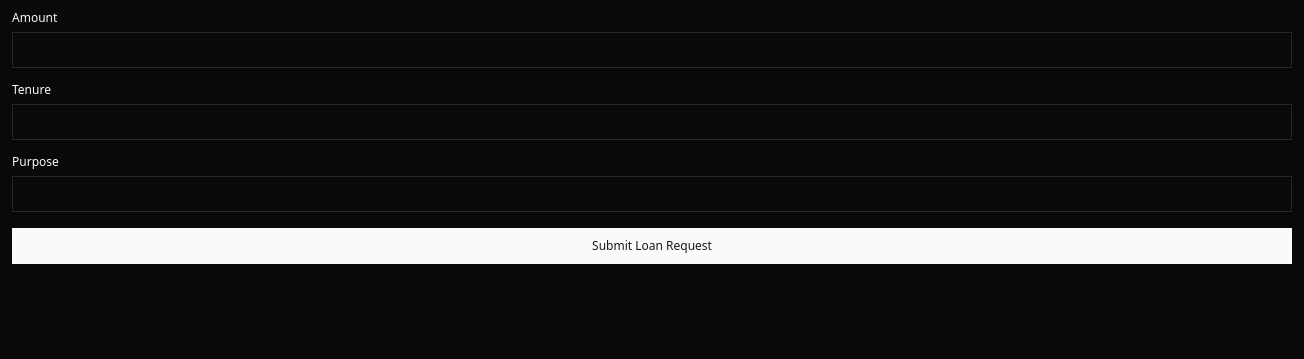
LoanForm › displays validation errors when form is submitted empty
What coordinates should you click on to do the following:
click the button "Submit Loan Request"
I would click on:
 (652, 246)
Its box is [12,228,1292,264].
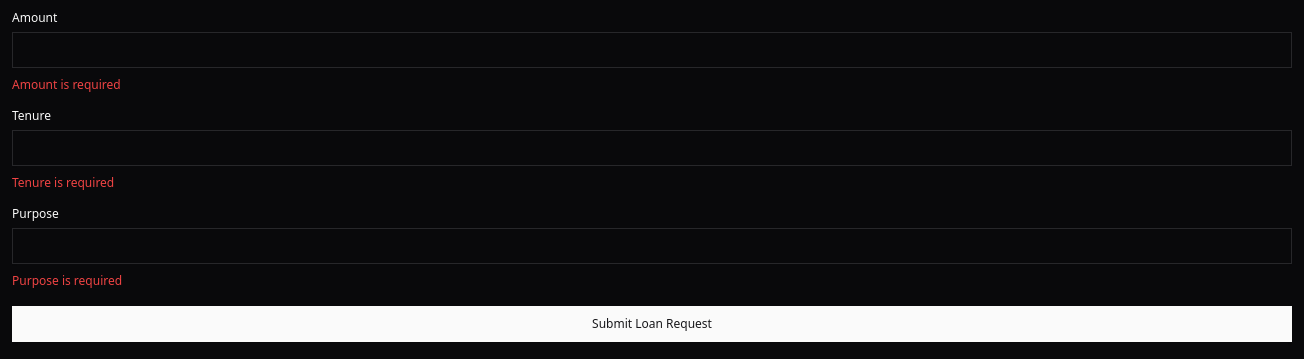
Expected: the text "Amount is required" is shown, [12,76,121,93]
Expected: the text "Tenure is required" is shown, [12,174,114,191]
Expected: the text "Purpose is required" is shown, [12,272,122,289]
